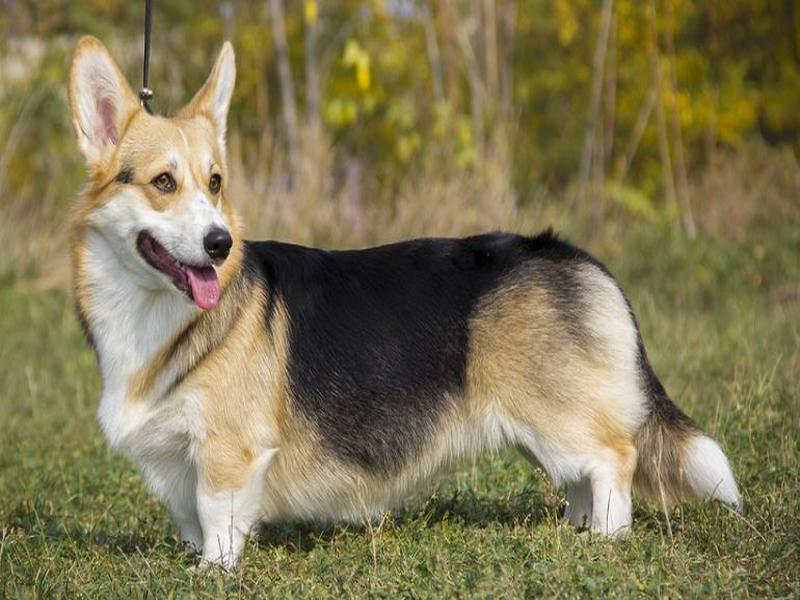corgi: (66, 34, 244, 313)
